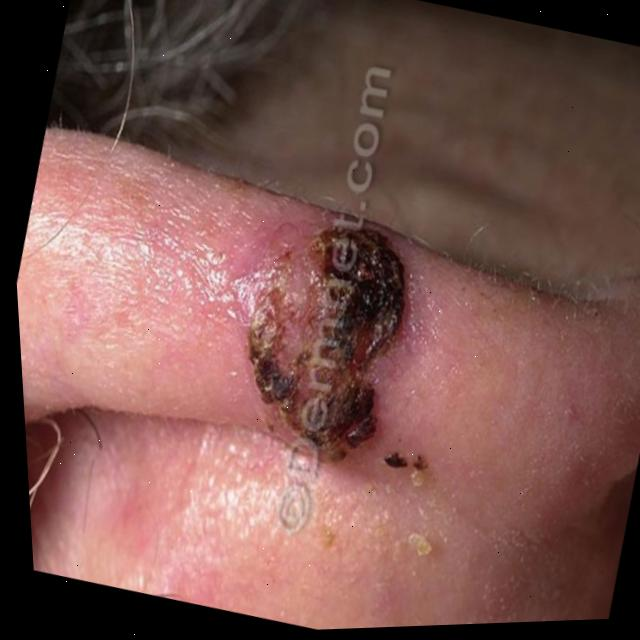Eczema: (216, 212, 456, 440)
